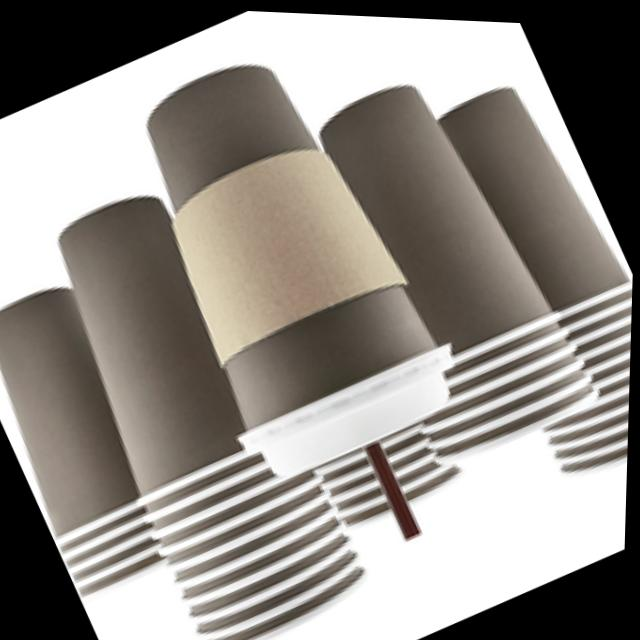paper_cups: (84, 16, 479, 496), (11, 164, 387, 640), (261, 21, 613, 483), (393, 55, 639, 492), (0, 276, 203, 615)
